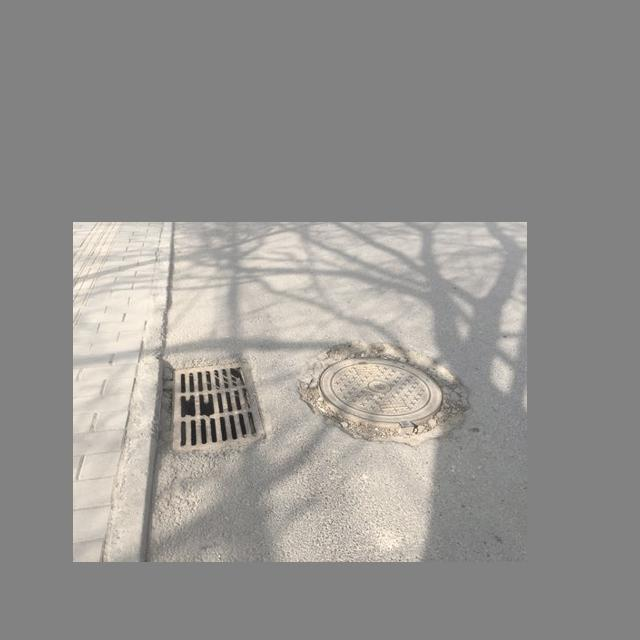circle: (293, 332, 470, 450)
